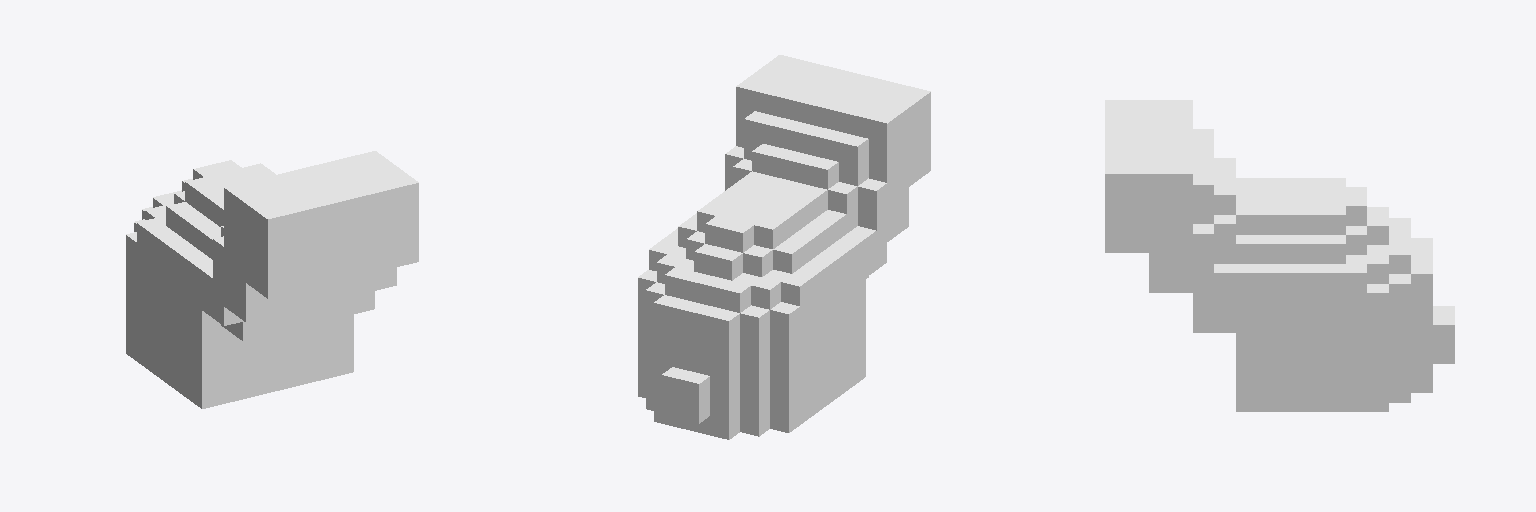
File: RabbitV2-0-Body.obj
The picture shows the model from 3 angles: view 1: azimuth 30°, elevation 25°; view 2: azimuth 150°, elevation 25°; view 3: azimuth 270°, elevation 25°; orthographic projection.
Parts seen in each view (by area): view 1: Body; view 2: Body; view 3: Body.
Part boxes in pixels (x1,y1,x2,y2): Body: (126, 151, 418, 408); Body: (638, 55, 930, 439); Body: (1105, 100, 1454, 411).
Bounding box in the file's own units: 0.8 × 1.2 × 1.6.